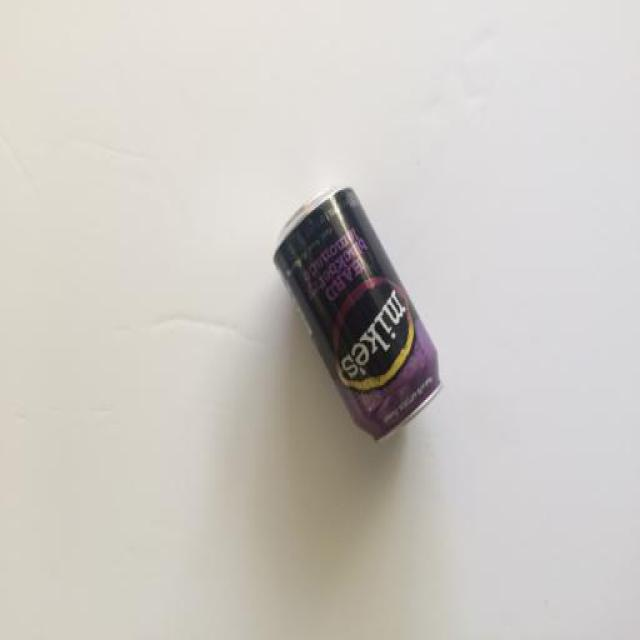Metal: (271, 185, 441, 440)
